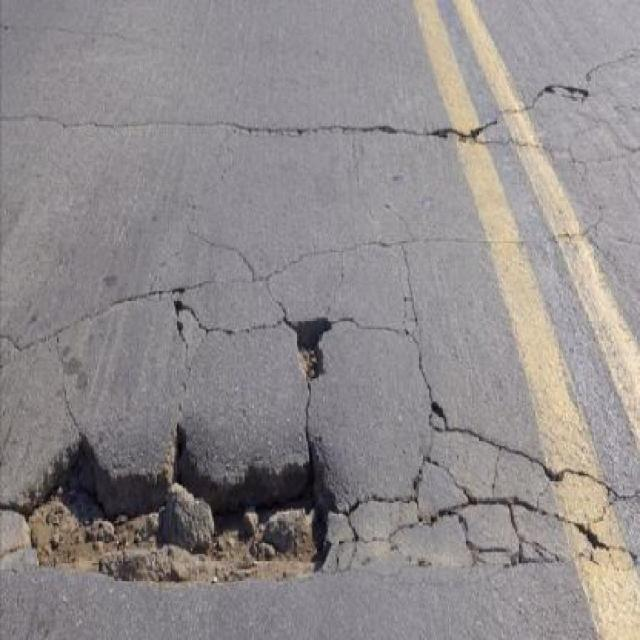pothole: (18, 420, 337, 598), (282, 298, 340, 384)
